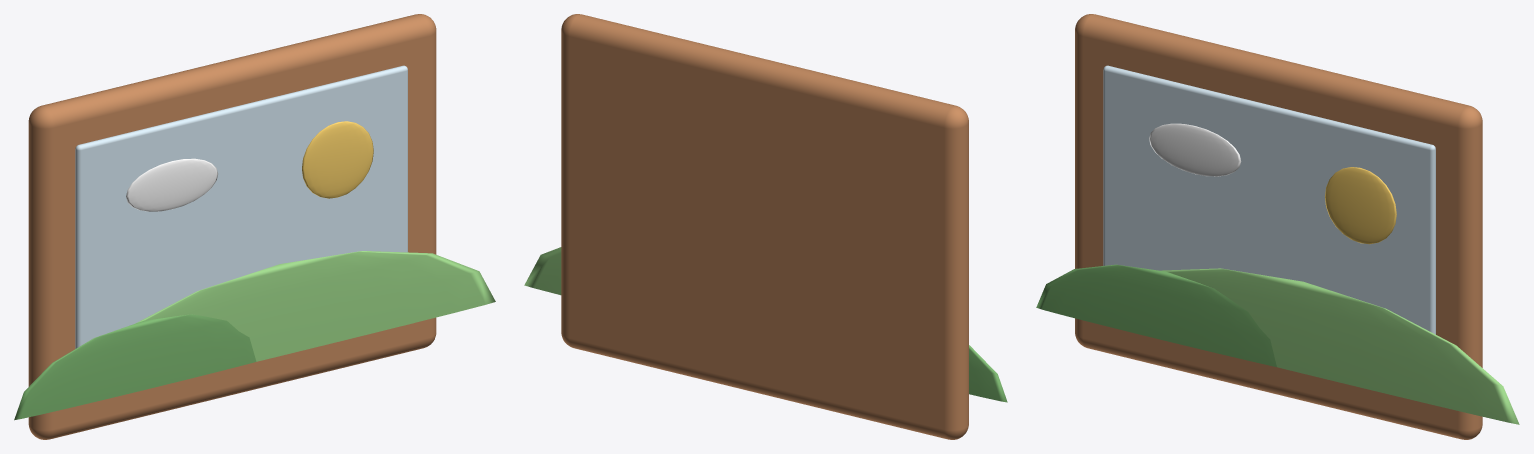
Rendered from picture_frame.glb.
3 renders of one model, left to right at view 1: azimuth 30°, elevation 25°; view 2: azimuth 150°, elevation 25°; view 3: azimuth 330°, elevation 25°, orthographic.
Visible parts, largest first — view 1: PictureFrame; view 2: PictureFrame; view 3: PictureFrame.
Part boxes in pixels (x1=…): PictureFrame: x1=14, y1=14, x2=495, y2=439; PictureFrame: x1=524, y1=14, x2=1007, y2=439; PictureFrame: x1=1036, y1=14, x2=1519, y2=439.
Bounding box in the file's own units: 0.67 × 0.44 × 0.053.
